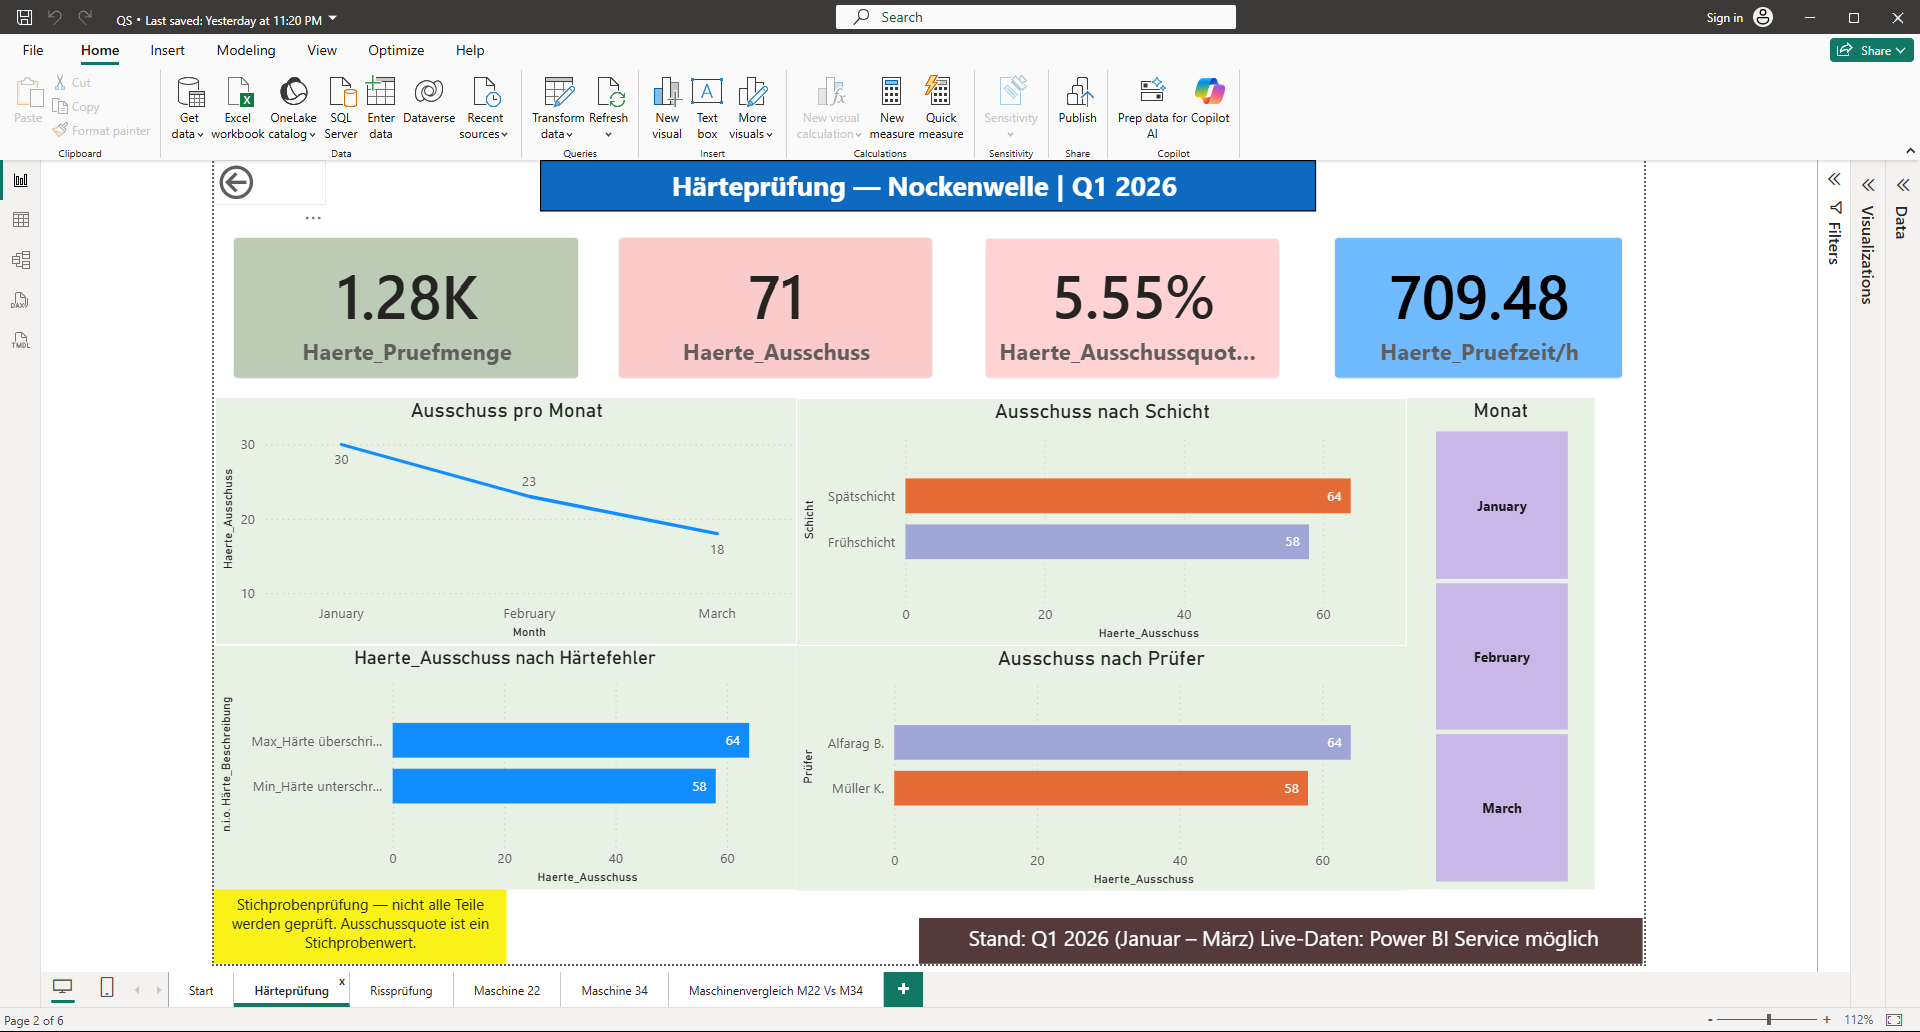

This screenshot's page, from the dashboard's own definition file:
{"tool":"powerbi","page":{"name":"Härteprüfung","canvas":[1280,720],"ordinal":1},"visuals":[{"type":"cardVisual","fields":{"Data":["Datumstabelle.Haerte_Pruefmenge"]},"box":[0,51.9,344.8,161.2],"z":0},{"type":"cardVisual","fields":{"Data":["Datumstabelle.Haerte_Ausschuss"]},"box":[344.8,51.9,316.1,161.2],"z":1000},{"type":"cardVisual","fields":{"Data":["Datumstabelle.Haerte_Pruefzeit"]},"box":[986,51.9,293.7,161.2],"z":2000},{"type":"cardVisual","fields":{"Data":["Datumstabelle.Haerte_Ausschussquote"]},"box":[673.4,52.8,298.2,160.3],"z":3000},{"type":"textbox","box":[0,652.8,262.4,67.2],"z":4000},{"type":"textbox","box":[291.9,0,694.9,45.7],"z":5000},{"type":"lineChart","title":"Ausschuss pro Monat","fields":{"Category":["Datumstabelle.Date.Variation.Date Hierarchy.Month"],"Y":["Datumstabelle.Haerte_Ausschuss"]},"box":[1.8,213.1,521.2,220.3],"z":6000},{"type":"barChart","title":"Ausschuss nach Schicht","fields":{"Category":["Härteanlage_M22.Schicht"],"Y":["Datumstabelle.Haerte_Ausschuss"]},"box":[521.2,213.1,547.2,222.1],"z":7000},{"type":"barChart","title":"Ausschuss nach Prüfer","fields":{"Category":["Härteanlage_M22.Prüfer"],"Y":["Datumstabelle.Haerte_Ausschuss"]},"box":[521.2,435.2,547.2,219.4],"z":8000},{"type":"slicer","title":"Monat","fields":{"Values":["Datumstabelle.Date.Variation.Date Hierarchy.Month"]},"box":[1068.4,213.1,168.4,439.7],"z":9000},{"type":"barChart","title":"Haerte_Ausschuss nach Härtefehler","fields":{"Y":["Datumstabelle.Haerte_Ausschuss"],"Category":["Härteanlage_M22.n.i.o. Härte_Beschreibung"]},"box":[0,435.2,521.2,217.6],"z":10000},{"type":"actionButton","box":[0,0,100,40],"z":11000},{"type":"textbox","box":[631.3,678.8,648.4,41.2],"z":12000}]}

Visuals, with their boxes on the page's 1280x720 design canvas (x1, y1, x2, y2). These are canvas units, not pixel positions in the 1920x1032 screenshot, which may show the page scaled, cropped or inside an application window:
cardVisual - Datumstabelle.Haerte_Pruefmenge: x1=0, y1=52, x2=345, y2=213
cardVisual - Datumstabelle.Haerte_Ausschuss: x1=345, y1=52, x2=661, y2=213
cardVisual - Datumstabelle.Haerte_Pruefzeit: x1=986, y1=52, x2=1280, y2=213
cardVisual - Datumstabelle.Haerte_Ausschussquote: x1=673, y1=53, x2=972, y2=213
textbox: x1=0, y1=653, x2=262, y2=720
textbox: x1=292, y1=0, x2=987, y2=46
"Ausschuss pro Monat" lineChart: x1=2, y1=213, x2=523, y2=433
"Ausschuss nach Schicht" barChart: x1=521, y1=213, x2=1068, y2=435
"Ausschuss nach Prüfer" barChart: x1=521, y1=435, x2=1068, y2=655
"Monat" slicer: x1=1068, y1=213, x2=1237, y2=653
"Haerte_Ausschuss nach Härtefehler" barChart: x1=0, y1=435, x2=521, y2=653
actionButton: x1=0, y1=0, x2=100, y2=40
textbox: x1=631, y1=679, x2=1280, y2=720
